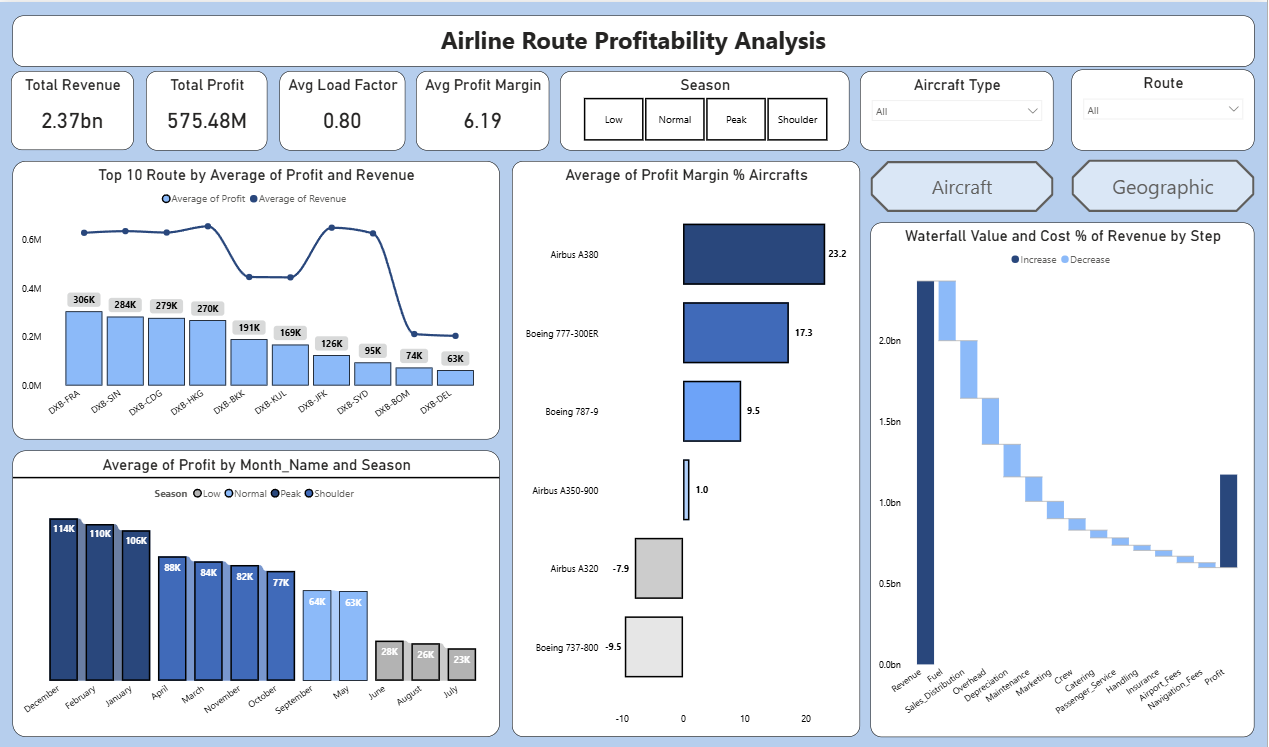

Layout of this report page (visuals, bound fields, positions):
{"tool":"powerbi","page":{"name":"Dashboard","canvas":[1700,1000],"ordinal":0},"visuals":[{"type":"slicer","title":"Aircraft Type","fields":{"Values":["Project 1.Aircraft_Type"]},"box":[1154.3,92.5,259.4,106.6],"z":0},{"type":"slicer","title":"Route","fields":{"Values":["Project 1.Route"]},"box":[1437.9,90.5,245.3,108.6],"z":1000},{"type":"slicer","title":"Season","fields":{"Values":["Project 1.Season"]},"box":[752.1,92.5,388.1,106.6],"z":2000},{"type":"card","title":"Total Revenue","fields":{"Values":["_measures.Total_Revenue"]},"box":[17,92.7,164.7,106],"z":4000},{"type":"card","title":"Total Profit","fields":{"Values":["Sum(Project 1.Profit)"]},"box":[197.1,92.5,162.9,106.6],"z":5000},{"type":"card","title":"Avg Load Factor","fields":{"Values":["_measures.Average_Load_Factor"]},"box":[376.1,92.5,168.9,106.6],"z":6000},{"type":"card","title":"Avg Profit Margin","fields":{"Values":["Avg(Project 1.Profit_Margin)"]},"box":[559.1,92.5,179,106.6],"z":7000},{"type":"textbox","box":[18.1,18.1,1665.2,68.4],"z":8000},{"type":"clusteredBarChart","title":"Average of Profit Margin % Aircrafts","fields":{"Y":["Avg(Project 1.Profit_Margin)"],"Category":["Project 1.Aircraft_Type"]},"box":[687.8,213.2,466.6,772.2],"z":9000},{"type":"lineClusteredColumnComboChart","title":"Top 10 Route by Average of Profit and Revenue","fields":{"Category":["Project 1.Route"],"Y":["Avg(Project 1.Profit)"],"Y2":["Avg(Project 1.Total_Revenue)"]},"box":[18.9,213.9,653,373],"z":10000},{"type":"columnChart","fields":{"Category":["Project 1.Month_Name"],"Y":["Avg(Project 1.Profit)"],"Series":["Project 1.Season"]},"box":[18.1,601.3,653.6,384.1],"z":11000},{"type":"waterfallChart","fields":{"Category":["Waterfall Steps.Step"],"Y":["_measures.Waterfall Value"]},"box":[1168.4,295.6,514.8,689.8],"z":12000},{"type":"actionButton","title":"Route","box":[1437.9,211.2,245.3,70.4],"z":13000},{"type":"actionButton","title":"Route","box":[1168.4,213.2,245.3,68.4],"z":14000}]}

Visuals, with their boxes in screenshot pixels (x1, y1, x2, y2), scaled from the page's 1700x1000 canvas onto the 1269x747 screenshot:
"Aircraft Type" slicer: bbox(862, 69, 1055, 149)
"Route" slicer: bbox(1073, 68, 1256, 149)
"Season" slicer: bbox(561, 69, 851, 149)
"Total Revenue" card: bbox(13, 69, 136, 148)
"Total Profit" card: bbox(147, 69, 269, 149)
"Avg Load Factor" card: bbox(281, 69, 407, 149)
"Avg Profit Margin" card: bbox(417, 69, 551, 149)
textbox: bbox(14, 14, 1257, 65)
"Average of Profit Margin % Aircrafts" clusteredBarChart: bbox(513, 159, 862, 736)
"Top 10 Route by Average of Profit and Revenue" lineClusteredColumnComboChart: bbox(14, 160, 502, 438)
columnChart - Project 1.Month_Name x Avg(Project 1.Profit): bbox(14, 449, 501, 736)
waterfallChart - Waterfall Steps.Step x _measures.Waterfall Value: bbox(872, 221, 1256, 736)
"Route" actionButton: bbox(1073, 158, 1256, 210)
"Route" actionButton: bbox(872, 159, 1055, 210)
